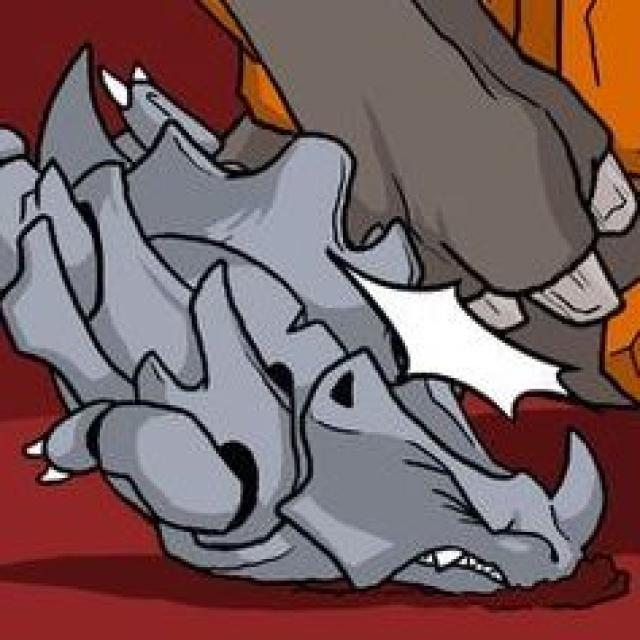Rhyhorn: (9, 86, 582, 610)
